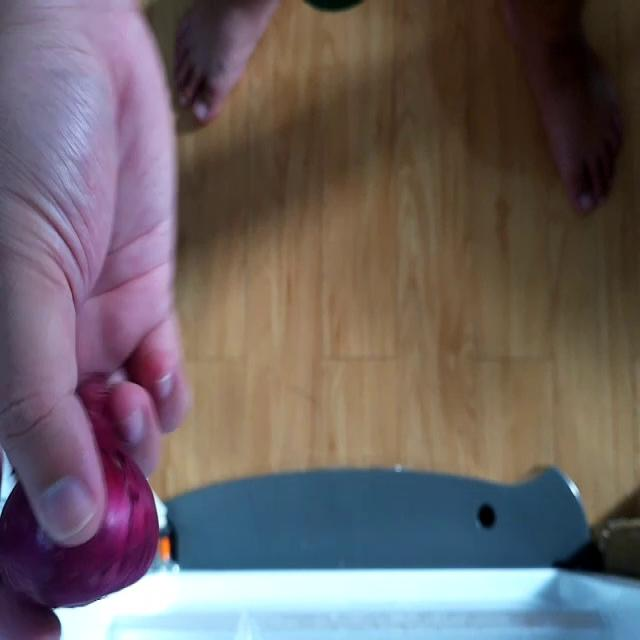onion: (0, 422, 160, 604)
